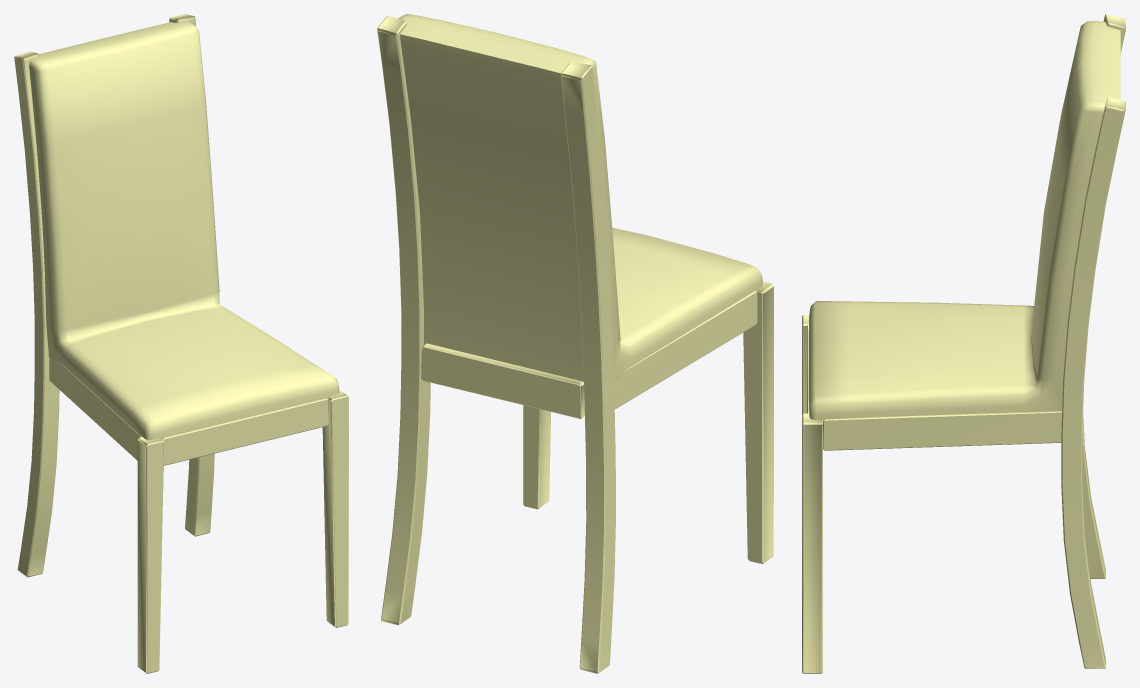
The model's file is MangaKa Props - M_Fu_R_Chair_21.glb.
3 renders of one model, left to right at view 1: azimuth 30°, elevation 25°; view 2: azimuth 150°, elevation 25°; view 3: azimuth 270°, elevation 25°, orthographic. The views are drawn at different scales.
Parts seen in each view (by area): view 1: M_Fu_R_Chair_21_Seat_blueScreen, M_Fu_R_Chair_21_blueScreen; view 2: M_Fu_R_Chair_21_Seat_blueScreen, M_Fu_R_Chair_21_blueScreen; view 3: M_Fu_R_Chair_21_Seat_blueScreen, M_Fu_R_Chair_21_blueScreen.
Part boxes in pixels (box(x1,y1,x2,y2)): M_Fu_R_Chair_21_Seat_blueScreen: box(29, 21, 339, 440); M_Fu_R_Chair_21_blueScreen: box(14, 14, 348, 673); M_Fu_R_Chair_21_Seat_blueScreen: box(398, 14, 762, 382); M_Fu_R_Chair_21_blueScreen: box(377, 15, 773, 673); M_Fu_R_Chair_21_Seat_blueScreen: box(808, 21, 1120, 423); M_Fu_R_Chair_21_blueScreen: box(802, 14, 1125, 673).
Bounding box in the file's own units: 0.418 × 1.01 × 0.5281.
